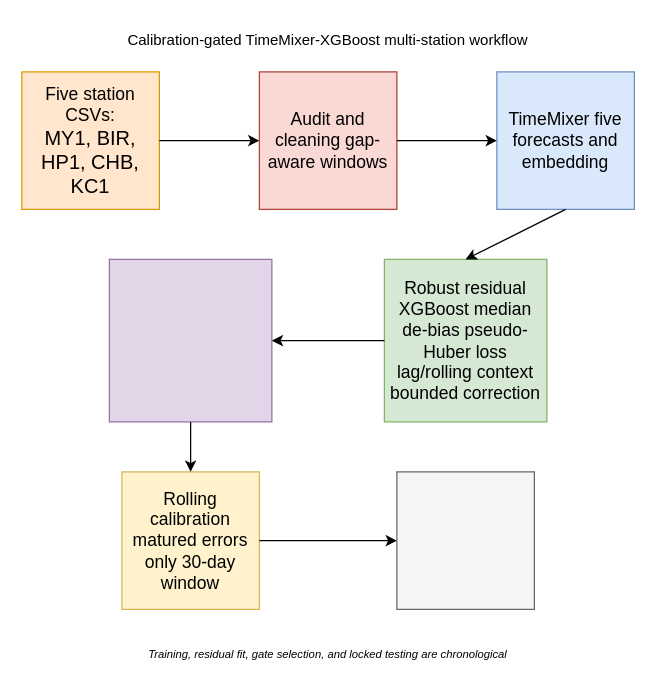
The diagram is 656 pixels wide and 693 high, and some of its shapes have lost their labels. Each missing label, with the centre of its shape:
"Held-out correction gate alpha per horizon zero = base fallback" goes at [190,340].
"Matched evaluation 5 stations x 5 seeds 30-epoch maximum" goes at [465,540].
